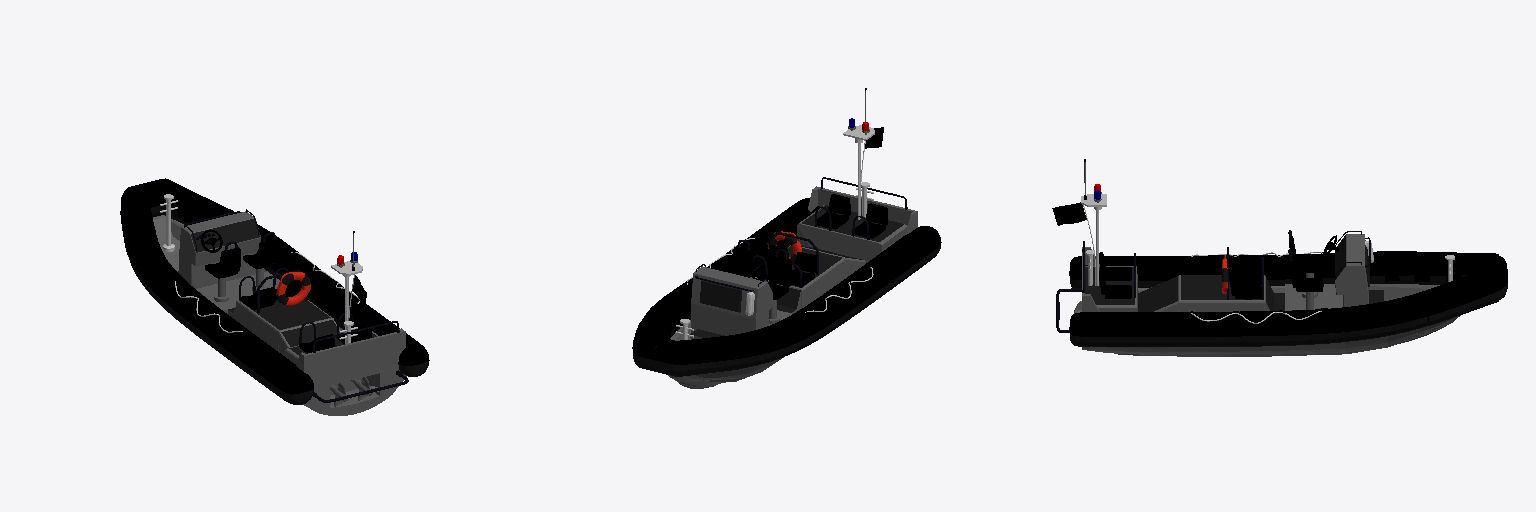
The model's file is SRP.obj.
The picture shows the model from 3 angles: view 1: azimuth 30°, elevation 25°; view 2: azimuth 150°, elevation 25°; view 3: azimuth 270°, elevation 25°; orthographic projection.
Visible parts, largest first — view 1: RubberHull, OutsideHull, CenterConsole, Console, Seat1, Seat2, InsideHull, Preserver, Seat3; view 2: RubberHull, CenterConsole, Console, OutsideHull, Seat1, Seat6, Seat5, Seat3, Seat2; view 3: RubberHull, CenterConsole, OutsideHull, Console, InsideHull, Seat2, Seat1, Flag, Seat6, Seat4.
Part boxes in pixels (x1,y1,x2,y2): RubberHull: (120,178,429,404); OutsideHull: (296,328,406,415); CenterConsole: (196,271,377,363); Console: (179,209,260,288); Seat1: (205,241,240,301); Seat2: (243,232,278,290); InsideHull: (153,215,344,332); Preserver: (276,272,310,305); Seat3: (239,276,275,309); RubberHull: (632,198,941,376); CenterConsole: (750,205,907,325); Console: (691,264,772,335); OutsideHull: (668,186,917,388); Seat1: (769,249,791,323); Seat6: (815,194,850,230); Seat5: (852,203,887,239); Seat3: (791,252,816,287); Seat2: (730,240,752,277); RubberHull: (1069,251,1507,346); CenterConsole: (1085,266,1342,311); OutsideHull: (1082,247,1460,356); Console: (1335,231,1373,306); InsideHull: (1138,284,1439,300); Seat2: (1288,249,1323,309); Seat1: (1288,230,1323,297); Flag: (1052,202,1086,225); Seat6: (1099,270,1135,298); Seat4: (1229,271,1263,299).
Bounding box in the file's own units: 5.57 × 7.07 × 15.11.